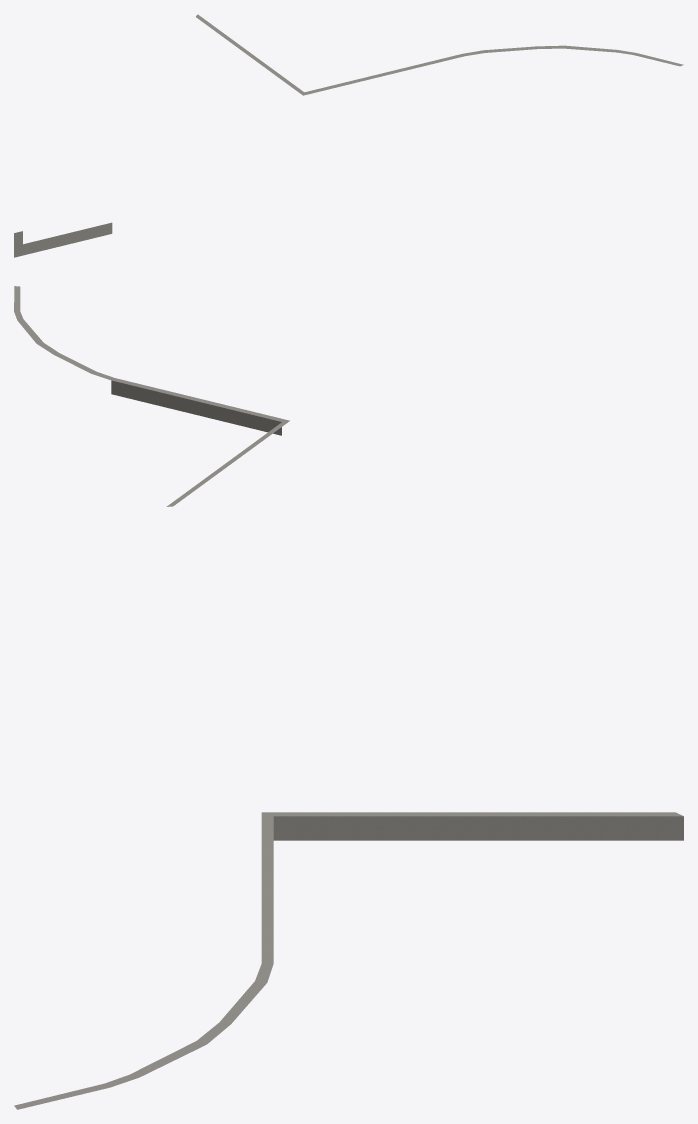
Rendered from kd_stage_135b75_1_5.glb.
3 renders of one model, top to bottom at view 1: azimuth 30°, elevation 25°; view 2: azimuth 150°, elevation 25°; view 3: azimuth 270°, elevation 25°, orthographic. The views are drawn at different scales.
Parts seen in each view (by area): view 1: kd_stage_135b75_1_5; view 2: kd_stage_135b75_1_5; view 3: kd_stage_135b75_1_5.
Part boxes in pixels (bbox=[...]): kd_stage_135b75_1_5: bbox=[14, 14, 683, 257]; kd_stage_135b75_1_5: bbox=[14, 286, 289, 506]; kd_stage_135b75_1_5: bbox=[14, 812, 683, 1109].
Bounding box in the file's own units: 59.67 × 4.96 × 28.01.
Materials: 1 (1 with a texture image).
